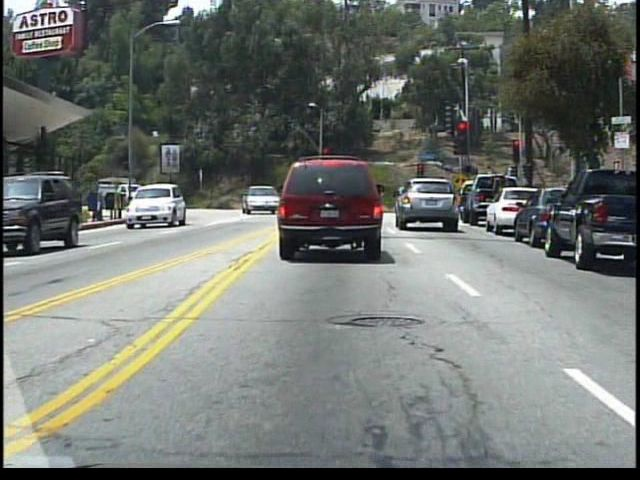person: (295, 186, 311, 212)
